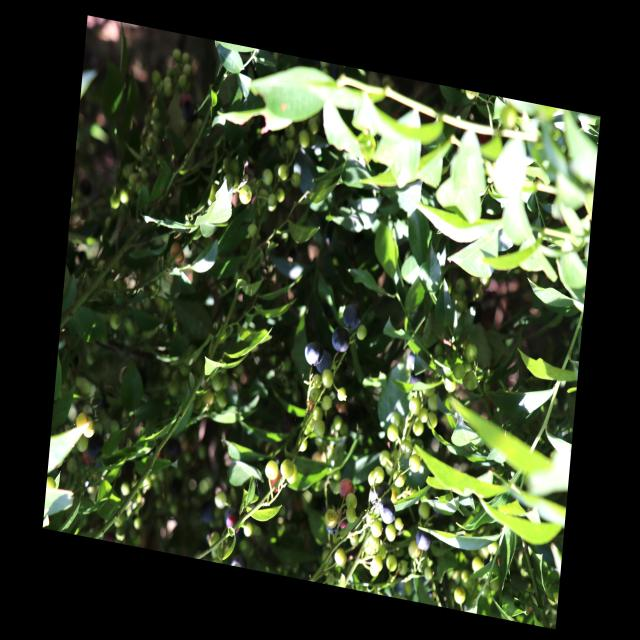blueberry: (302, 338, 325, 369), (340, 301, 363, 332), (330, 324, 352, 355), (414, 528, 435, 554), (316, 347, 334, 377), (378, 496, 396, 526), (368, 483, 386, 510), (377, 481, 393, 502), (325, 522, 342, 537)
blueberry-halfripe: (338, 477, 356, 499)
blueberry-unripe: (279, 457, 295, 479), (264, 460, 280, 480), (463, 342, 478, 363), (238, 184, 252, 206), (369, 466, 384, 486), (298, 129, 311, 151), (320, 369, 334, 389), (392, 469, 406, 489), (276, 162, 290, 182), (464, 370, 478, 389), (408, 396, 421, 416), (400, 440, 412, 460), (426, 411, 438, 431), (311, 405, 324, 423), (408, 454, 421, 472), (261, 168, 274, 186), (371, 520, 384, 536), (296, 437, 308, 454), (313, 420, 325, 437), (384, 525, 396, 542), (452, 363, 464, 380), (288, 464, 298, 484), (346, 494, 358, 510), (386, 426, 398, 442), (346, 506, 356, 524), (380, 450, 391, 465), (321, 395, 332, 409), (413, 421, 424, 435), (336, 387, 346, 402), (310, 389, 322, 401), (312, 375, 321, 388), (395, 519, 403, 531)
